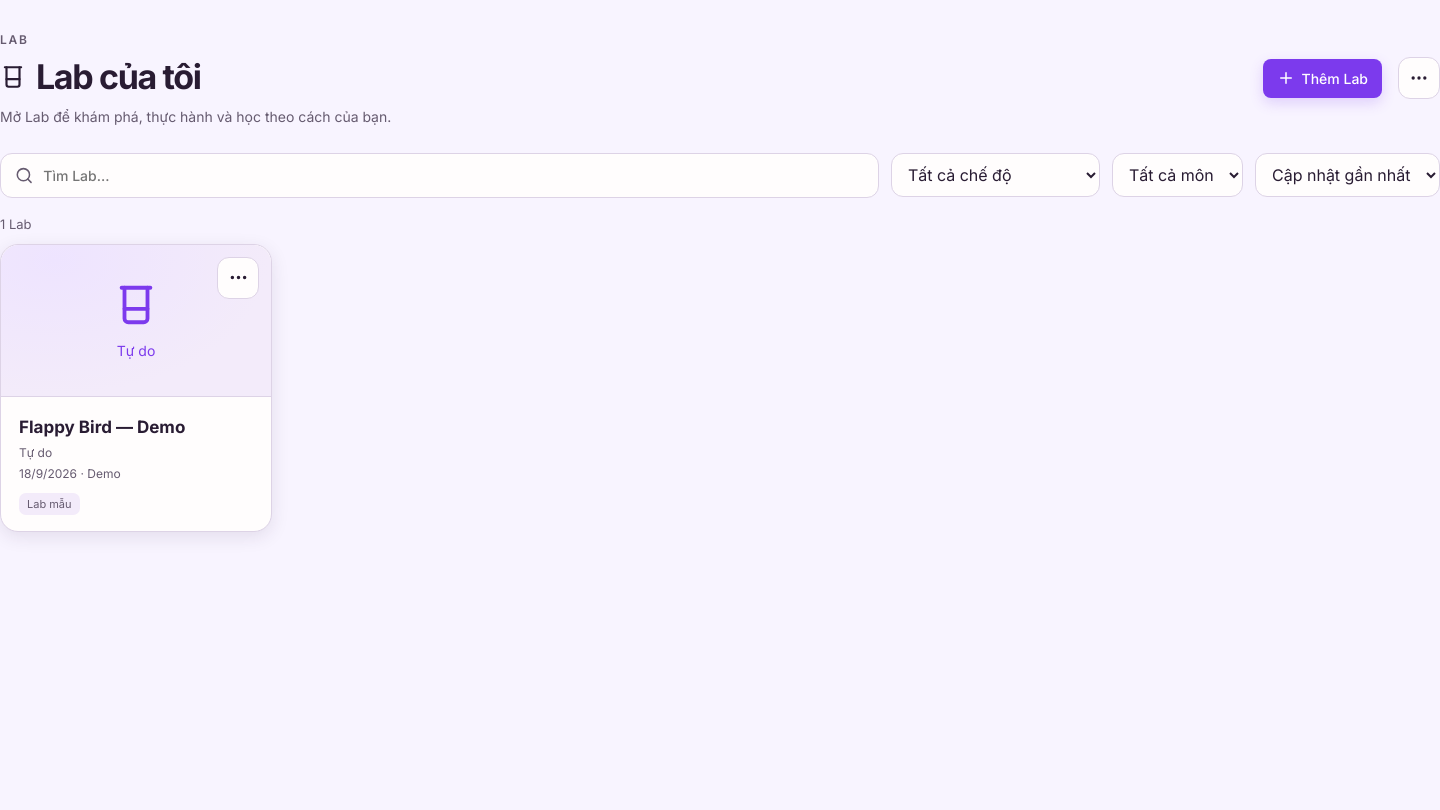
Test: Lab library user workflows › restores a pending draft without starting its HTML on the gallery
Click the button "Thêm Lab".
click(1322, 78)  # box [1262,59,1382,98]
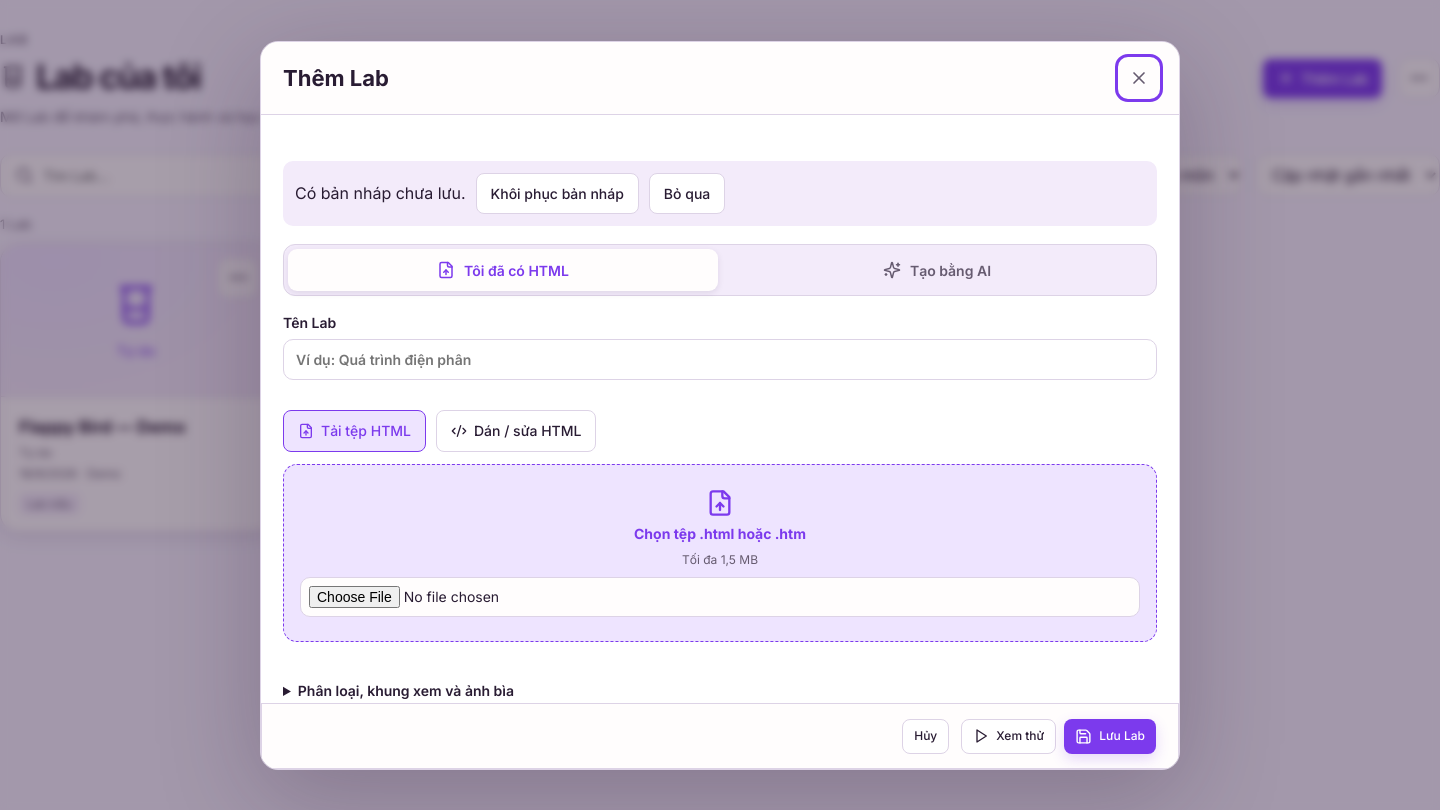
Check: the button "Khôi phục bản nháp" is shown
Click the button "Khôi phục bản nháp".
click(557, 193)  # box [476,172,639,214]
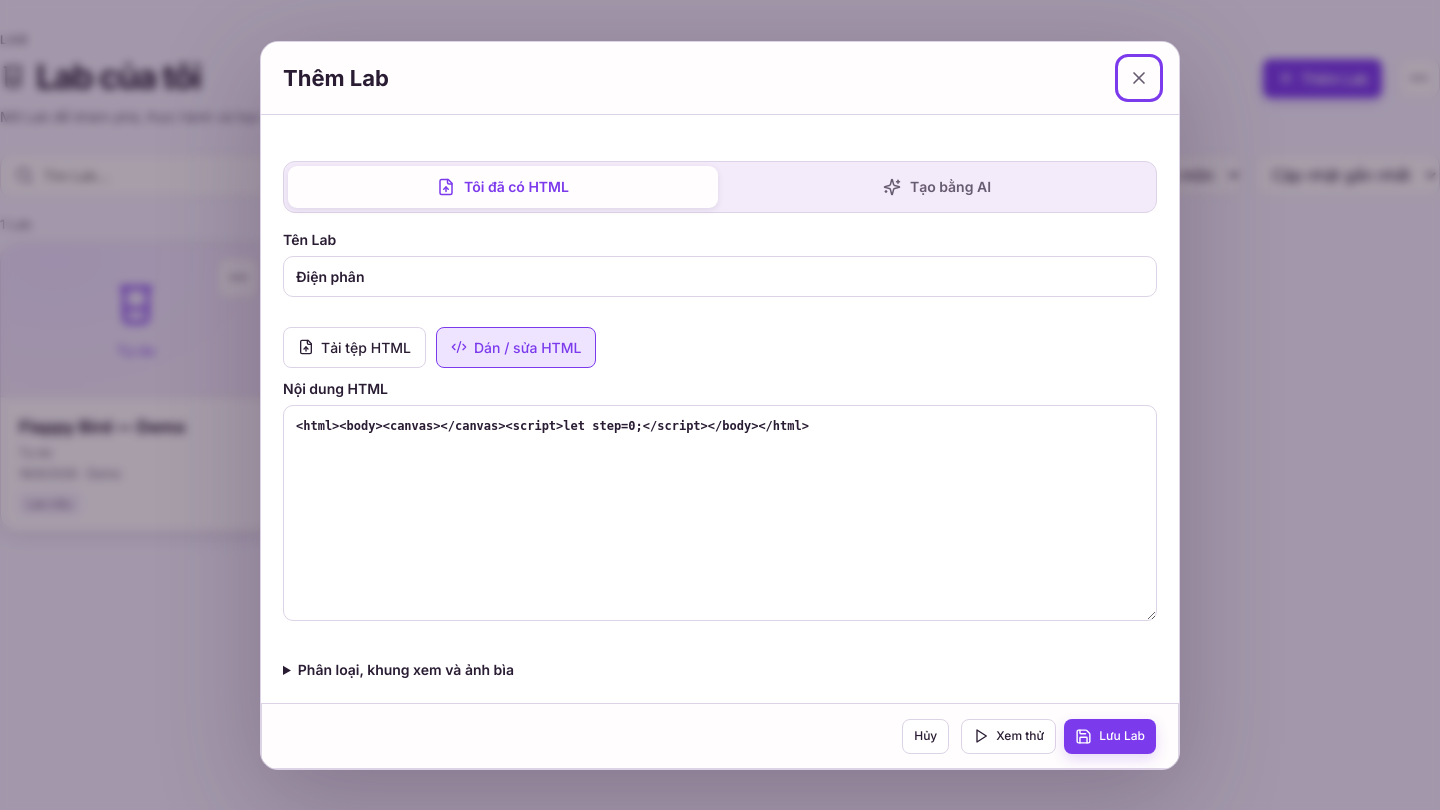
Check: the field labelled "Tên Lab" holds "Điện phân", box [283,256,1157,296]
Check: the text box named "HTML" holds "<html><body><canvas></canvas><script>let step=0;</script></body></html>", box [283,405,1157,621]
